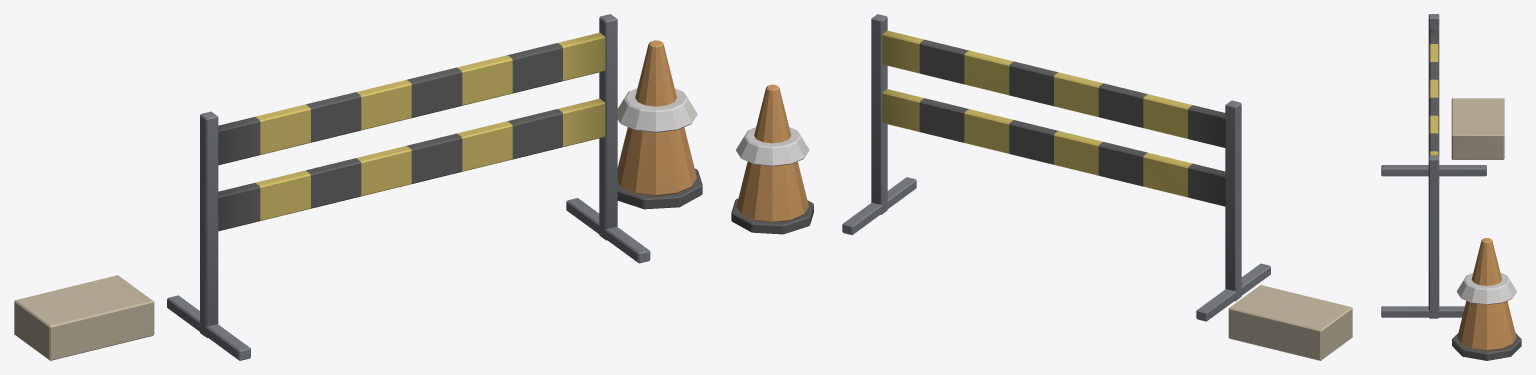
Rendered from works.glb.
3 views of the same model, side by side, from view 1: azimuth 30°, elevation 25°; view 2: azimuth 150°, elevation 25°; view 3: azimuth 270°, elevation 25° (orthographic). The views are drawn at different scales.
Size of the model in its own units: 3.2 by 1 by 0.7977.
